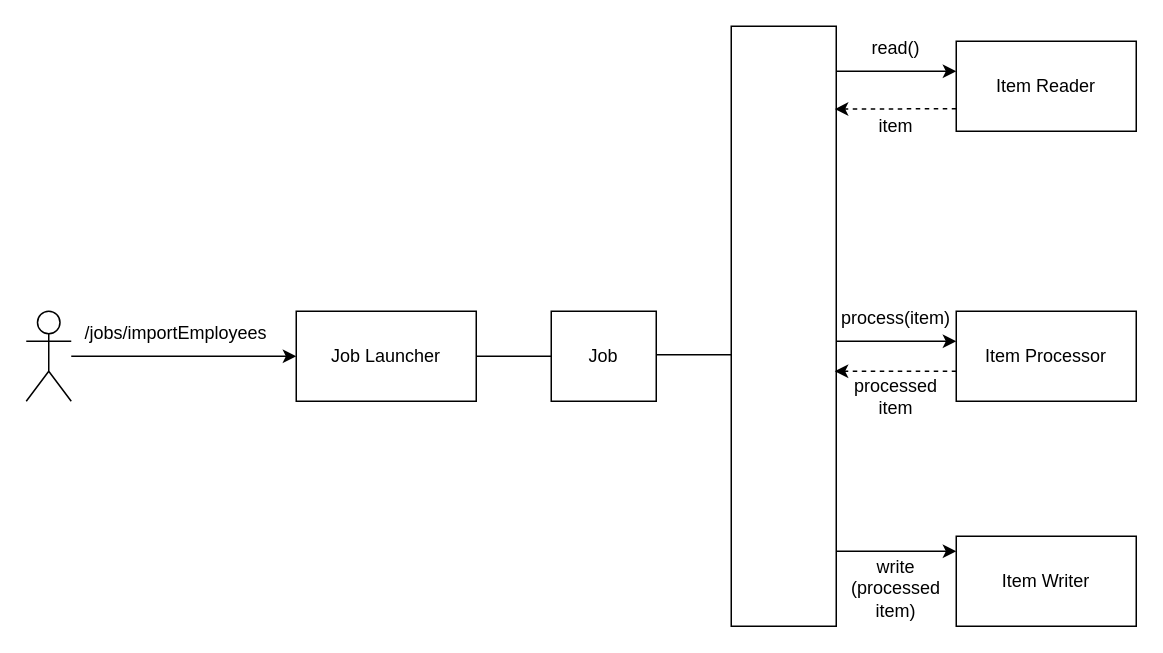
Image size: 1163x653. Some labels were removed from this diagram. Each missing label, with the box of its shape:
Actor: (25, 310, 71, 401)
Step: (730, 25, 836, 626)
